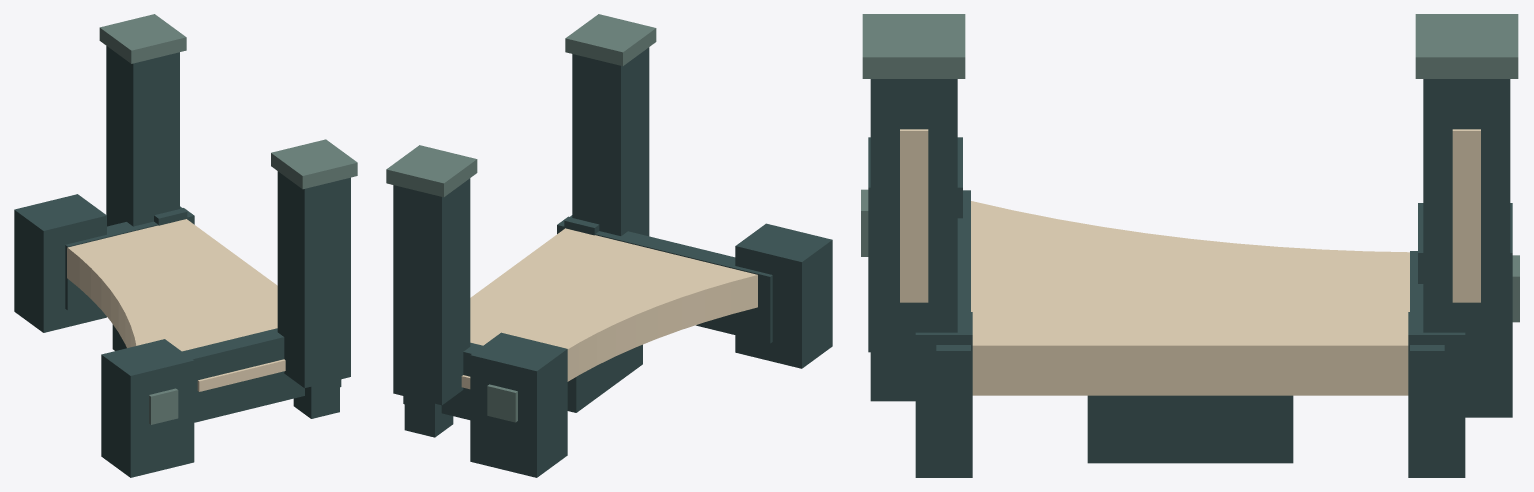
Rendered from Pier_Angled_15_Switch_lab2.glb.
3 renders of one model, left to right at view 1: azimuth 30°, elevation 25°; view 2: azimuth 150°, elevation 25°; view 3: azimuth 270°, elevation 25°, orthographic. The views are drawn at different scales.
Parts seen in each view (by area): view 1: Pier_Angled_15_Switch; view 2: Pier_Angled_15_Switch; view 3: Pier_Angled_15_Switch.
Part boxes in pixels (x1,y1,x2,y2): Pier_Angled_15_Switch: (14, 14, 357, 477); Pier_Angled_15_Switch: (386, 14, 832, 477); Pier_Angled_15_Switch: (861, 14, 1519, 477).
Size of the model in its own units: 2.74 by 2.95 by 4.17.
